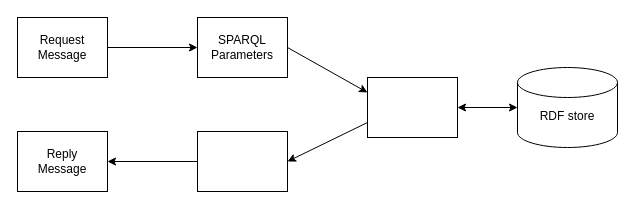
Some shapes in this 635 by 209 pixel diagram are drawn without their labels. Each missing label, with the box of its shape:
Result Entity (1 or more): (196, 130, 288, 192)
SPARQL Query: (366, 76, 458, 138)
